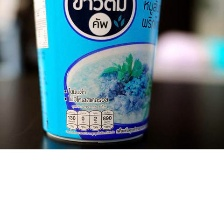paper_cup: (24, 0, 168, 147)
